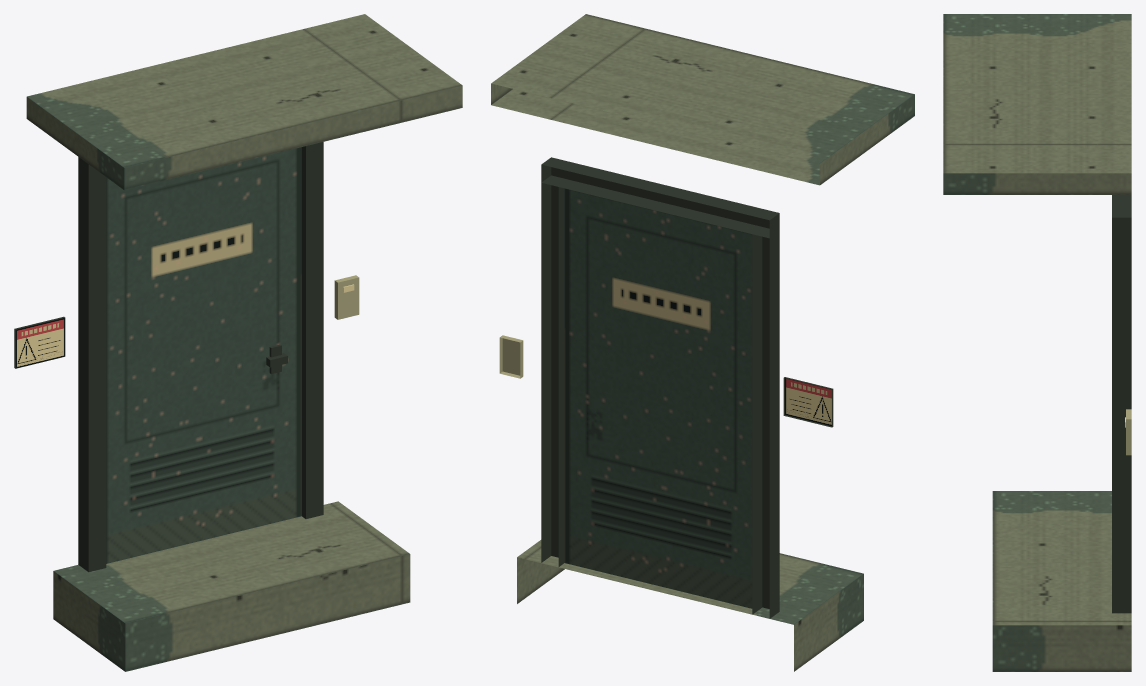
Rendered from SM_Forest_ServiceDoor_200x90x270.fbx.
The picture shows the model from 3 angles, left to right: view 1: azimuth 30°, elevation 25°; view 2: azimuth 150°, elevation 25°; view 3: azimuth 270°, elevation 25°; orthographic projection. The views are drawn at different scales.
Visible parts, largest first — view 1: SM_Forest_ServiceDoor_200x90x270.001; view 2: SM_Forest_ServiceDoor_200x90x270.001; view 3: SM_Forest_ServiceDoor_200x90x270.001.
Part boxes in pixels (x1,y1,x2,y2): SM_Forest_ServiceDoor_200x90x270.001: [14, 14, 462, 671]; SM_Forest_ServiceDoor_200x90x270.001: [491, 14, 914, 671]; SM_Forest_ServiceDoor_200x90x270.001: [943, 14, 1131, 671].
Size of the model in its own units: 1.97 by 2.84 by 0.95.
